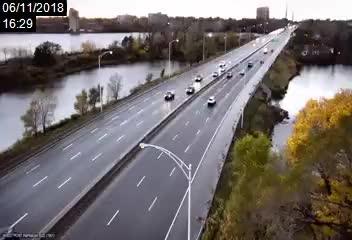personal_car: (164, 88, 176, 101), (206, 94, 217, 105), (194, 71, 203, 82), (219, 61, 229, 70), (184, 86, 195, 94), (211, 68, 218, 77), (226, 70, 233, 79), (238, 68, 245, 77)
